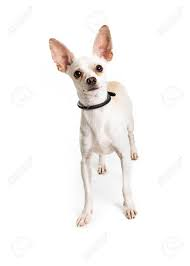chihuahua: (36, 20, 161, 234)
